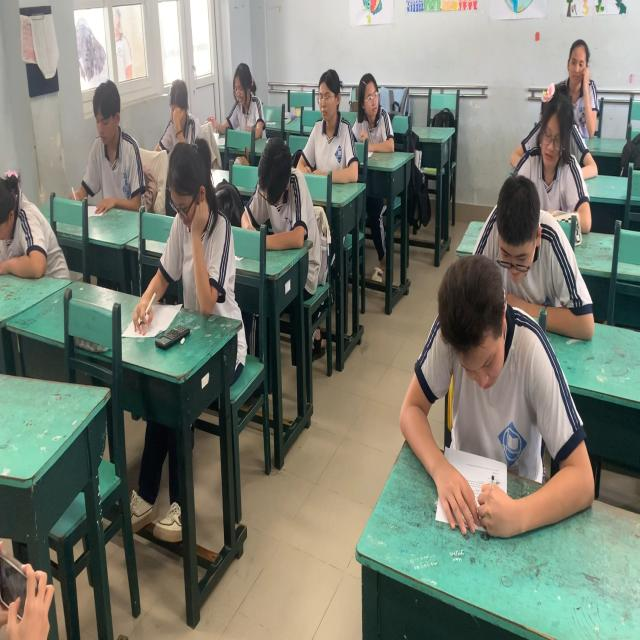cheating: (346, 26, 408, 135)
not_cheating: (384, 216, 589, 520), (160, 85, 244, 332), (472, 147, 592, 309), (1, 101, 86, 283), (242, 97, 327, 263), (502, 52, 587, 216), (77, 36, 159, 196), (550, 0, 626, 144), (300, 24, 366, 180), (219, 12, 274, 112), (157, 56, 206, 152)
